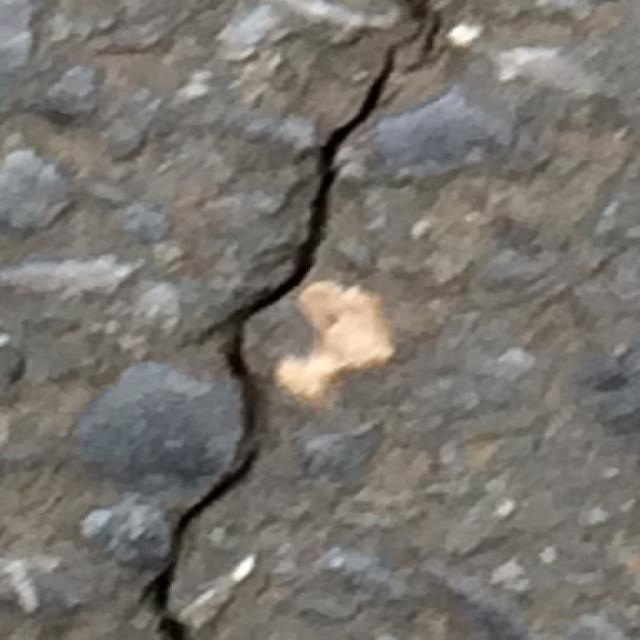Network: (123, 0, 431, 640)
